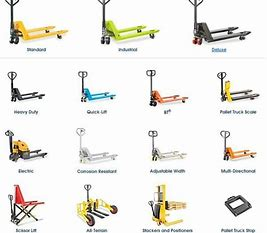Pallet Jack: (188, 1, 252, 47), (6, 1, 71, 46), (97, 1, 161, 45), (76, 183, 121, 229), (145, 68, 189, 109), (146, 183, 186, 228), (74, 127, 120, 166), (3, 129, 49, 163), (216, 71, 261, 104), (145, 129, 188, 163), (76, 70, 117, 104), (218, 130, 256, 164), (7, 72, 46, 104)
Scissor Lift: (6, 184, 45, 226)
